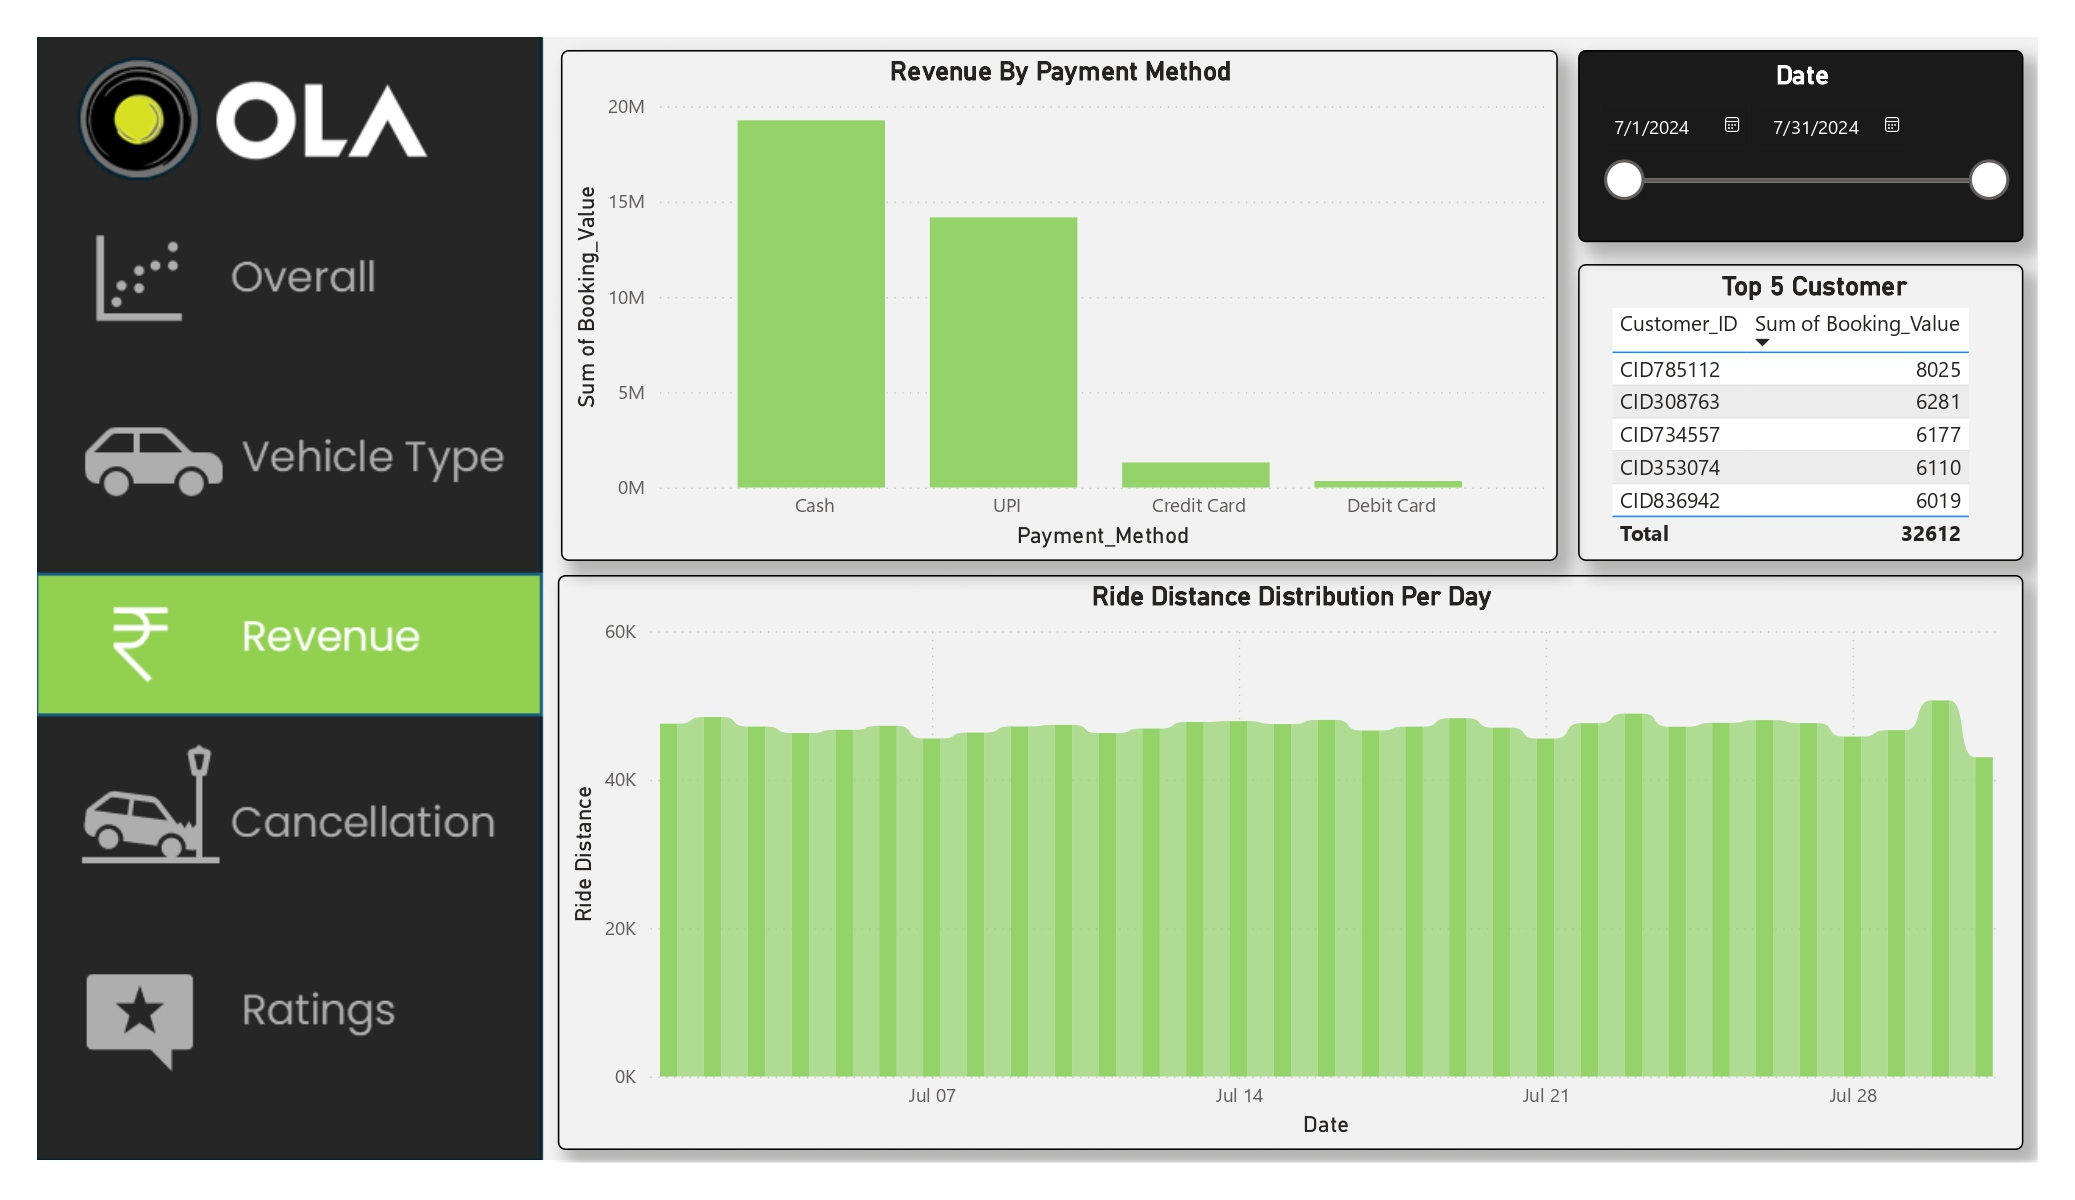

This screenshot's page, from the dashboard's own definition file:
{"tool":"powerbi","page":{"name":"REVENU","canvas":[1280,720],"ordinal":2},"visuals":[{"type":"actionButton","box":[0,223.3,323.9,92],"z":0},{"type":"actionButton","box":[0,343.6,323.9,92],"z":1000},{"type":"actionButton","box":[0,457.7,323.9,92],"z":2000},{"type":"actionButton","box":[0,577.9,323.9,92],"z":3000},{"type":"actionButton","box":[0,109.2,323.9,92],"z":4000},{"type":"columnChart","title":"Revenue  By Payment Method","fields":{"Y":["Sum(July.Booking_Value)"],"Category":["July.Payment_Method"]},"box":[334.6,7.7,638.5,326.9],"z":5000},{"type":"ribbonChart","title":"Ride Distance Distribution Per Day","fields":{"Y":["Sum(July.Ride_Distance)"],"Category":["July.Date"]},"box":[333.3,343.6,937.2,367.9],"z":6000},{"type":"slicer","title":"Date ","fields":{"Values":["July.Date"]},"box":[985.9,7.7,284.6,123.1],"z":7000},{"type":"tableEx","title":"Top 5 Customer","fields":{"Values":["July.Customer_ID","Sum(July.Booking_Value)"]},"box":[985.9,144.9,284.6,189.7],"z":8000}]}

Visuals, with their boxes on the page's 1280x720 design canvas (x1, y1, x2, y2). These are canvas units, not pixel positions in the 2075x1200 screenshot, which may show the page scaled, cropped or inside an application window:
actionButton: [0, 223, 324, 315]
actionButton: [0, 344, 324, 436]
actionButton: [0, 458, 324, 550]
actionButton: [0, 578, 324, 670]
actionButton: [0, 109, 324, 201]
"Revenue  By Payment Method" columnChart: [335, 8, 973, 335]
"Ride Distance Distribution Per Day" ribbonChart: [333, 344, 1270, 712]
"Date " slicer: [986, 8, 1270, 131]
"Top 5 Customer" tableEx: [986, 145, 1270, 335]
